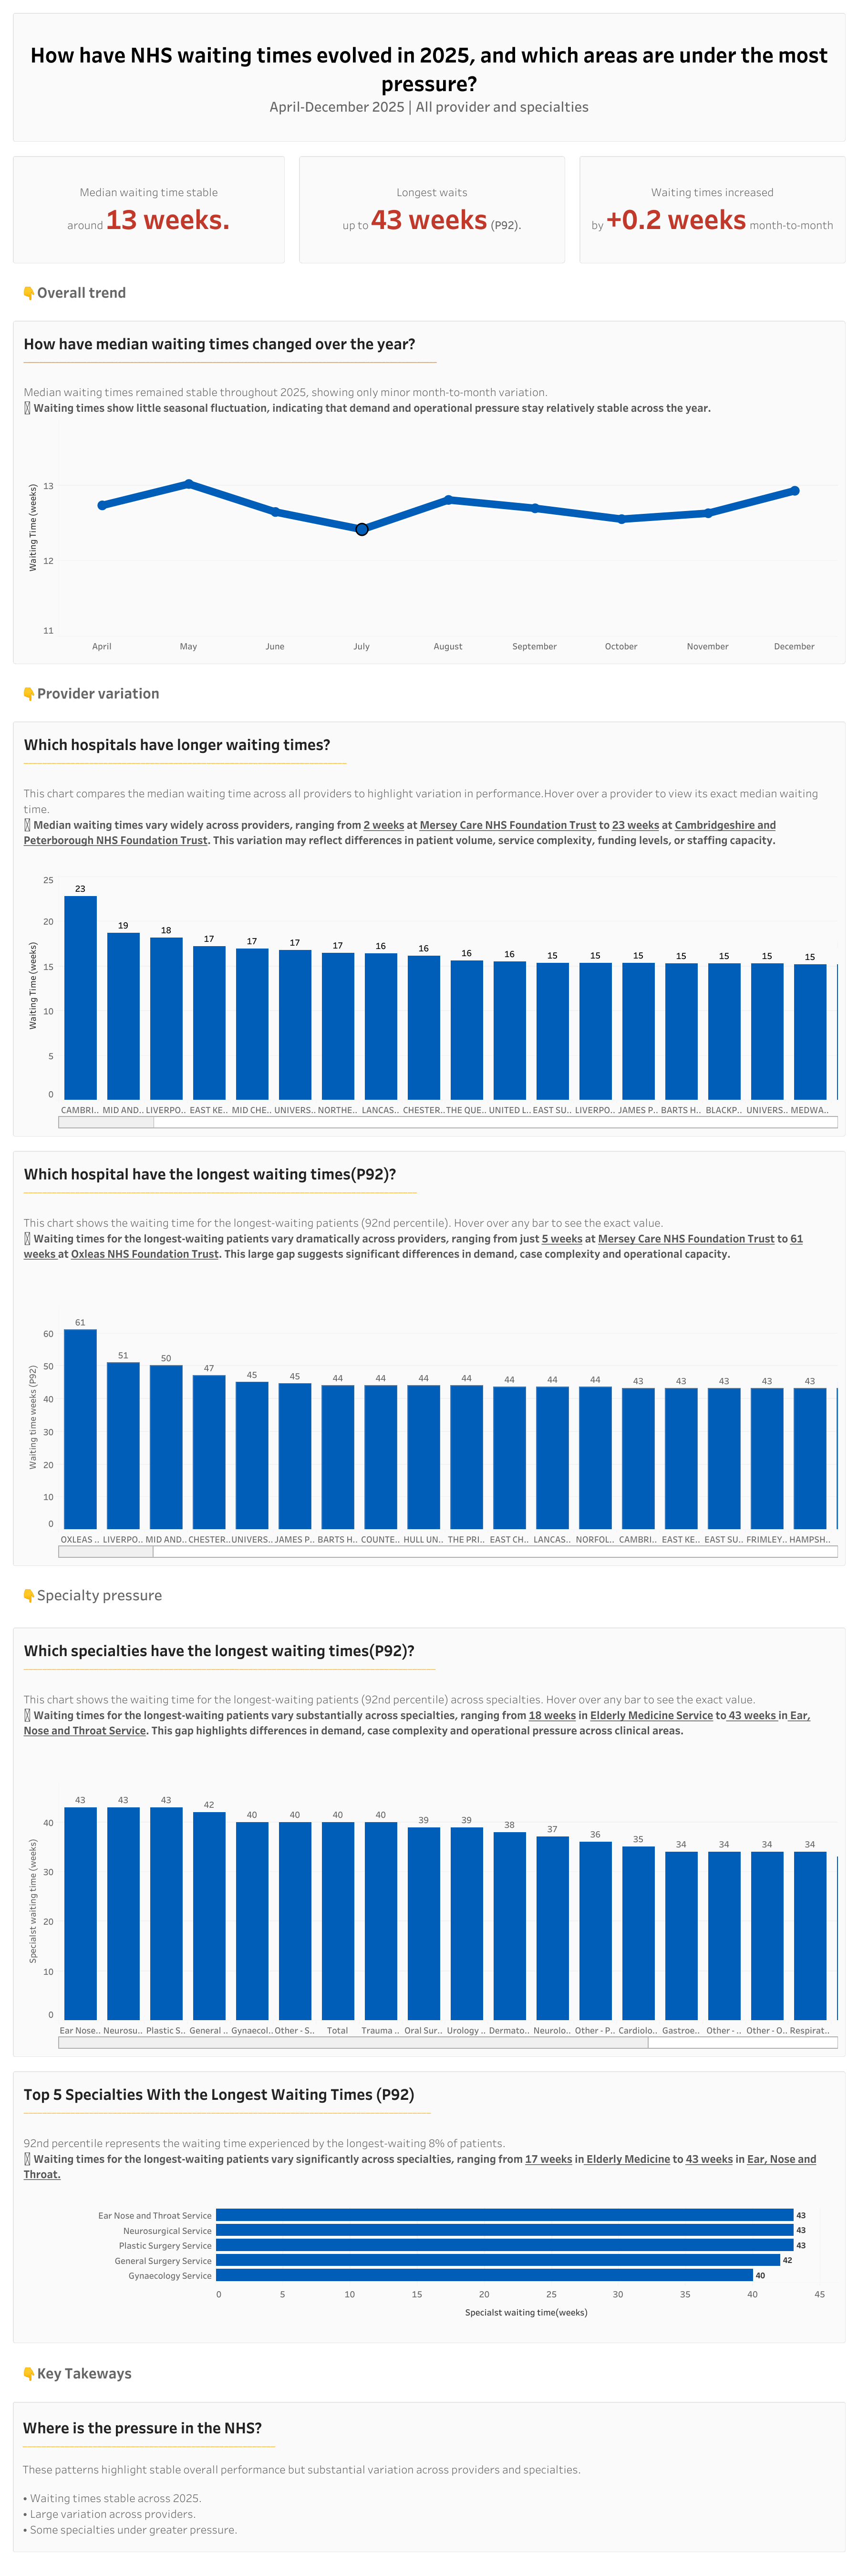

What the dashboard file says about the page in this screenshot:
{"tool":"tableau","page":{"name":"Dashboard 1","canvas":[1200,2200],"ordinal":0},"visuals":[{"type":"text","box":[8,8,1184,168]},{"type":"worksheet","title":"KPI- Latest Median","mark":"Automatic","box":[8,176,394.7,138]},{"type":"worksheet","title":"KPI-MoM Change","mark":"Text","box":[402.7,176,394.7,138]},{"type":"worksheet","title":"KPI – 92nd Percentile","mark":"Automatic","box":[797.3,176,394.7,138]},{"type":"text","box":[8,314,1184,159]},{"type":"legend","title":"Monthly Median Trend","param":"[federated.01nr69613za8q017olmdk1m1pyjp].[:Measure Names]","box":[8,473,1184,84]},{"type":"worksheet","title":"Monthly Median Trend","mark":"Line","rows":["Average (median) waiting time (in weeks)","92nd percentile waiting time (in weeks)"],"cols":["Month Name"],"box":[8,557.1,1015.9,328.9]},{"type":"filter","title":"Monthly Median Trend","param":"[federated.01nr69613za8q017olmdk1m1pyjp].[none:Provider Name:nk]","box":[1023.9,557.1,168,328.9]},{"type":"worksheet","title":"Provider Median Comparison","mark":"Bar","rows":["Average (median) waiting time (in weeks)"],"cols":["Provider Name"],"box":[8,886,1184,379]},{"type":"worksheet","title":"Specialty Median Comparison","mark":"Bar","rows":["Average (median) waiting time (in weeks)"],"cols":["Treatment Function"],"box":[8,1265,1184,283]},{"type":"worksheet","title":" Provider P92 Comparison","mark":"Bar","rows":["92nd percentile waiting time (in weeks)"],"cols":["Provider Name"],"box":[8,1548,705,400]},{"type":"worksheet","title":"Specialty P92 Comparison","mark":"Bar","rows":["92nd percentile waiting time (in weeks)"],"cols":["Treatment Function"],"box":[713,1548,478.8,400]},{"type":"worksheet","title":"P92 Key Insights","mark":"Shape","cols":["Calculation_2449208419553309"],"box":[515,1567,65,31]},{"type":"worksheet","title":"P92 Key RIsk","mark":"Shape","cols":["Calculation_2449208419553309"],"box":[465,1570,86,40]},{"type":"worksheet","title":"Top 5 Worst Specialties (P92)","mark":"Bar","rows":["Treatment Function"],"cols":["92nd percentile waiting time (in weeks)"],"box":[8,1948,1184,244]}]}

Visuals, with their boxes on the page's 1200x2200 design canvas (x1, y1, x2, y2). These are canvas units, not pixel positions in the 858x2576 screenshot, which may show the page scaled, cropped or inside an application window:
text: (8,8,1192,176)
"KPI- Latest Median" worksheet: (8,176,403,314)
"KPI-MoM Change" worksheet (Text marks): (403,176,797,314)
"KPI – 92nd Percentile" worksheet: (797,176,1192,314)
text: (8,314,1192,473)
"Monthly Median Trend" legend: (8,473,1192,557)
"Monthly Median Trend" worksheet (Line marks): (8,557,1024,886)
"Monthly Median Trend" filter: (1024,557,1192,886)
"Provider Median Comparison" worksheet (Bar marks): (8,886,1192,1265)
"Specialty Median Comparison" worksheet (Bar marks): (8,1265,1192,1548)
" Provider P92 Comparison" worksheet (Bar marks): (8,1548,713,1948)
"Specialty P92 Comparison" worksheet (Bar marks): (713,1548,1192,1948)
"P92 Key Insights" worksheet (Shape marks): (515,1567,580,1598)
"P92 Key RIsk" worksheet (Shape marks): (465,1570,551,1610)
"Top 5 Worst Specialties (P92)" worksheet (Bar marks): (8,1948,1192,2192)
